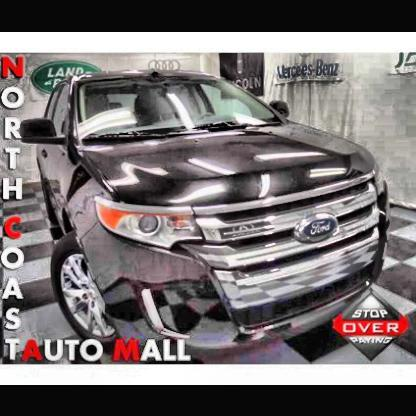Ford Edge SUV 2012: (25, 74, 391, 350)
